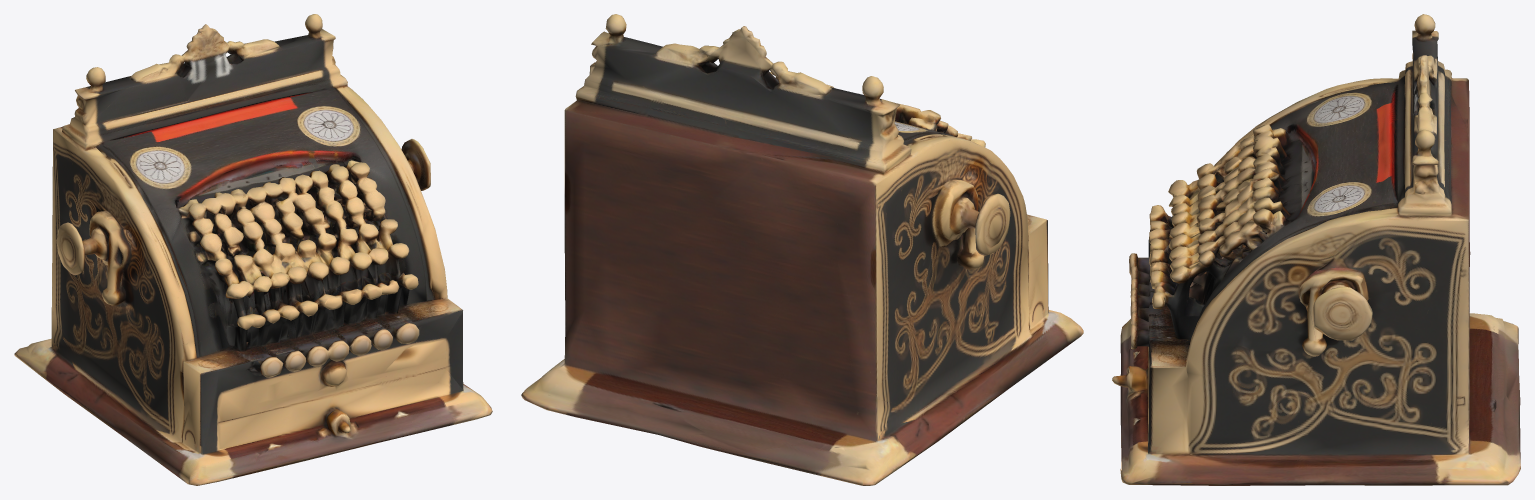
The model's file is register.glb.
3 views of the same model, side by side, from view 1: azimuth 30°, elevation 25°; view 2: azimuth 150°, elevation 25°; view 3: azimuth 270°, elevation 25° (orthographic). The views are drawn at different scales.
Size of the model in its own units: 2 by 1.79 by 1.86.
Materials: 1 (1 with a texture image).
